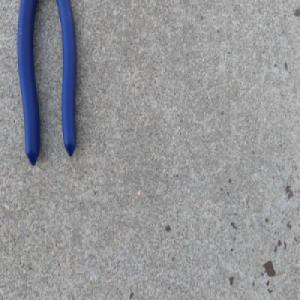Pliers: (14, 0, 77, 168)
